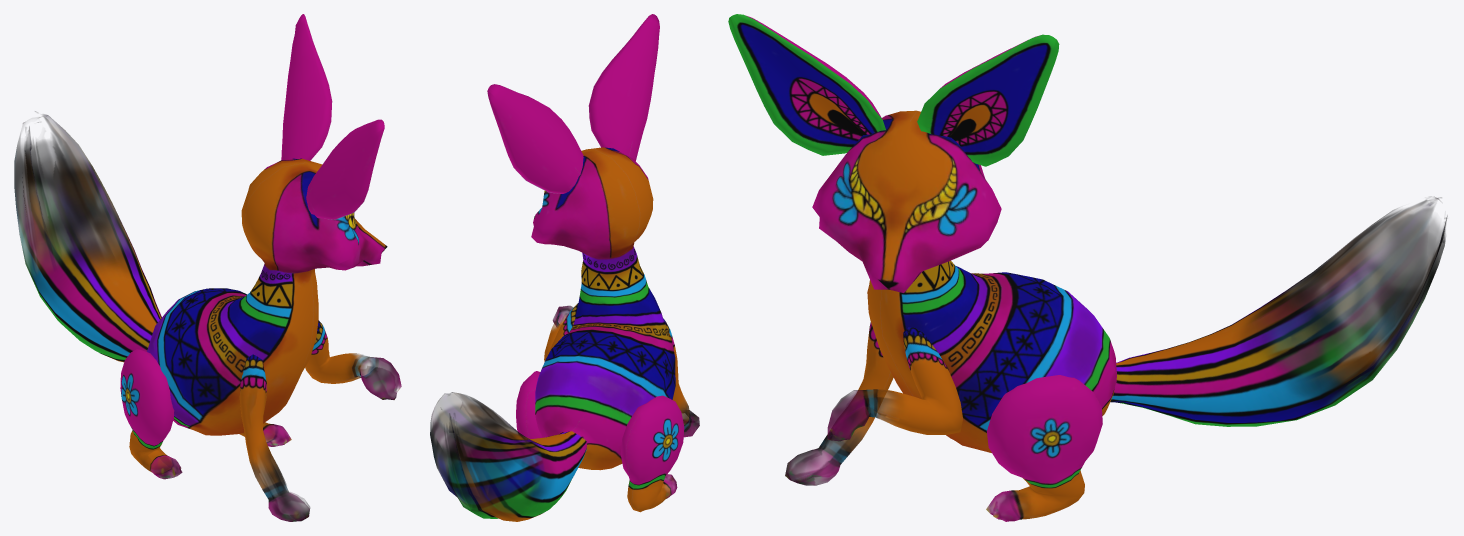
The model's file is alebrije-clasico.glb.
3 views of the same model, side by side, from view 1: azimuth 30°, elevation 25°; view 2: azimuth 150°, elevation 25°; view 3: azimuth 270°, elevation 25° (orthographic). The views are drawn at different scales.
Parts seen in each view (by area): view 1: Object_2; view 2: Object_2; view 3: Object_2.
Part boxes in pixels (x1,y1,x2,y2): Object_2: (14,14,401,521); Object_2: (430,14,699,521); Object_2: (728,14,1447,521).
Size of the model in its own units: 4.02 by 7.82 by 9.98.
Materials: 1 (1 with a texture image).
